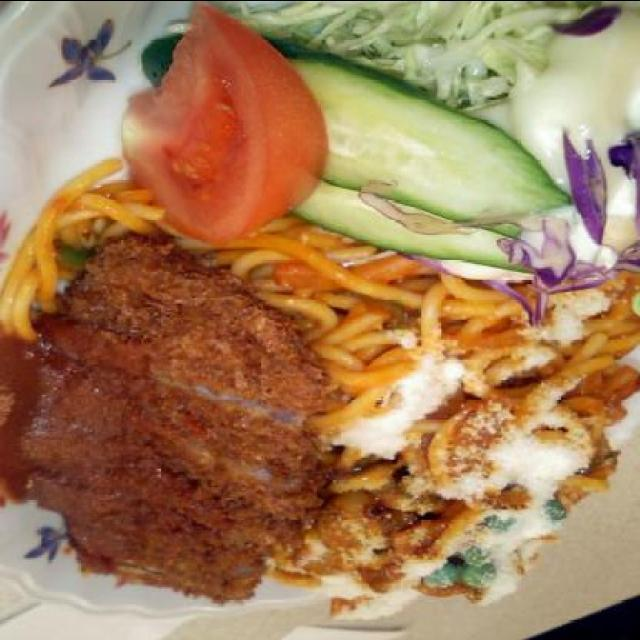Cucumber: (294, 37, 532, 246), (290, 181, 539, 277)
